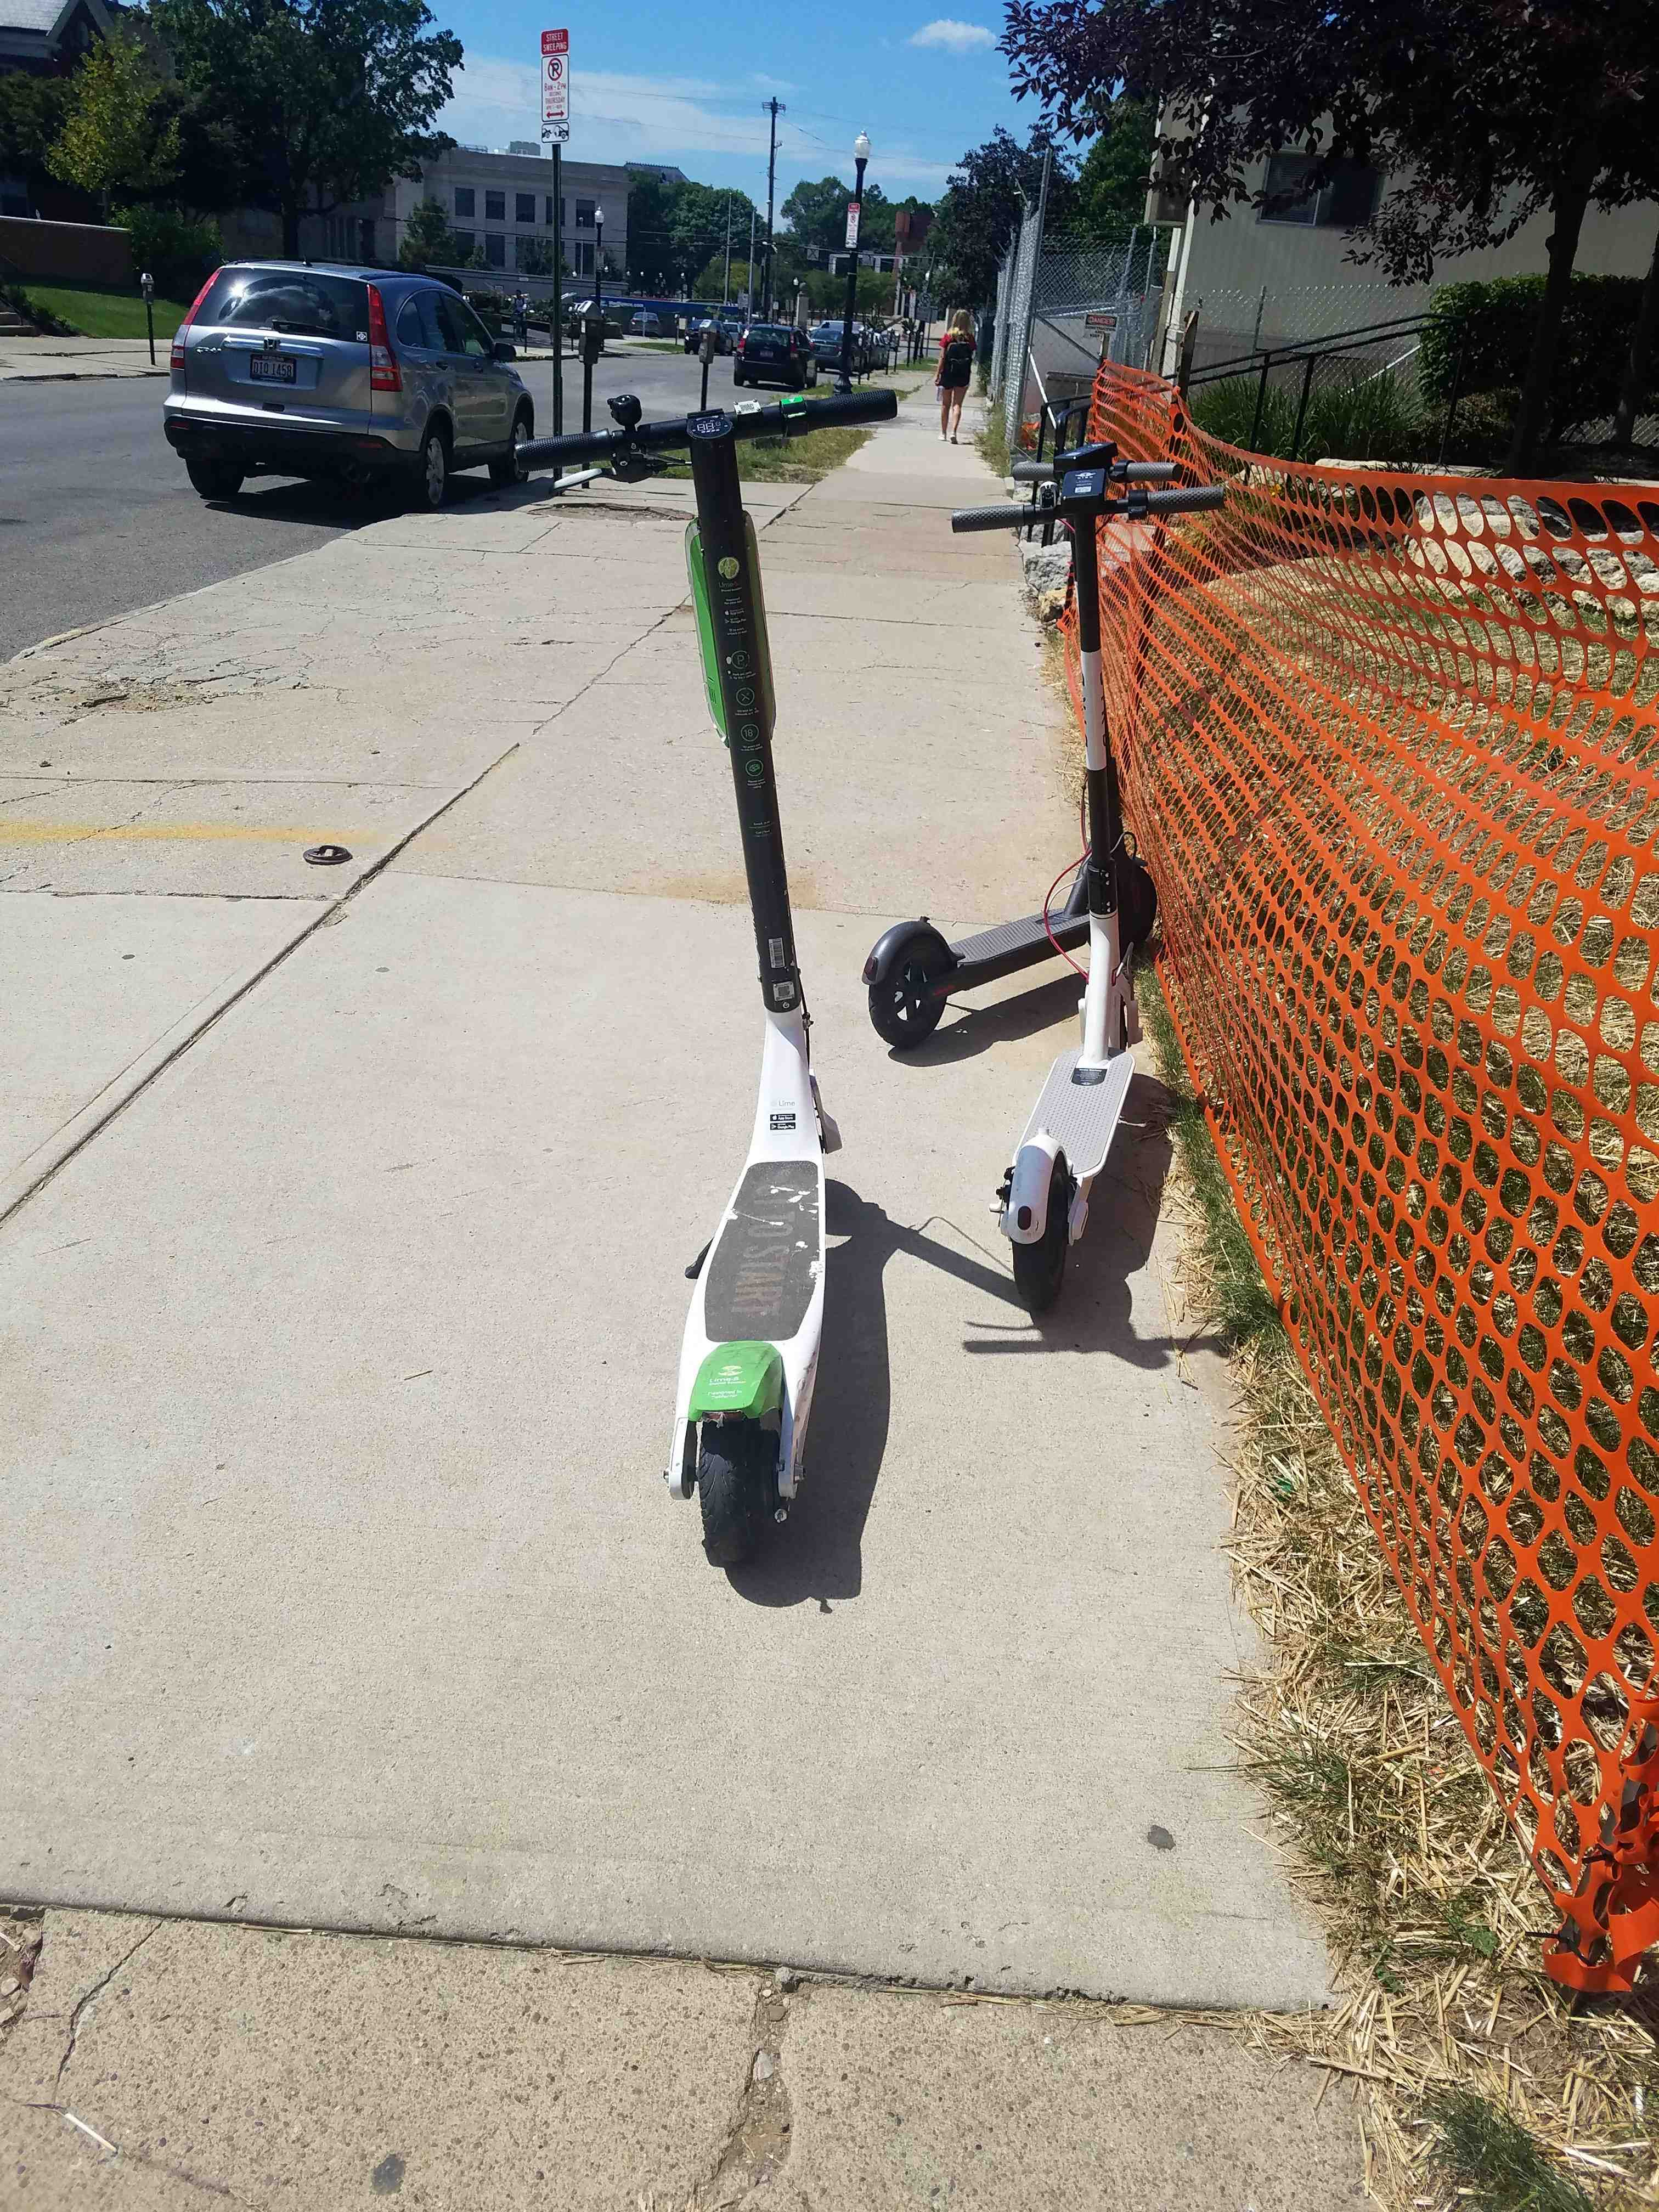scooter: (467, 345, 931, 1642), (894, 425, 1232, 1413)
